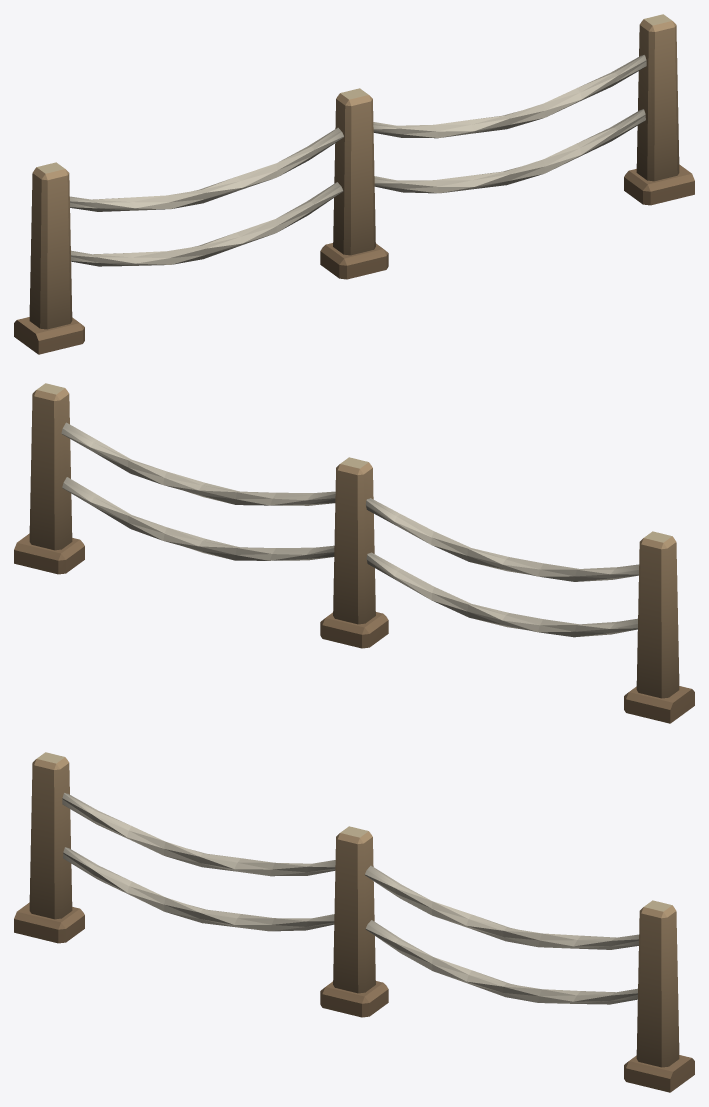
File: railing.glb
The picture shows the model from 3 angles, top to bottom: view 1: azimuth 30°, elevation 25°; view 2: azimuth 150°, elevation 25°; view 3: azimuth 330°, elevation 25°; orthographic projection.
Parts seen in each view (by area): view 1: railing; view 2: railing; view 3: railing.
Boxes of the visible parts, x1,y1,x2,y2 form: railing: (14, 14, 694, 354); railing: (14, 383, 694, 723); railing: (14, 752, 694, 1092).
Bounding box in the file's own units: 4 × 1 × 0.26.
